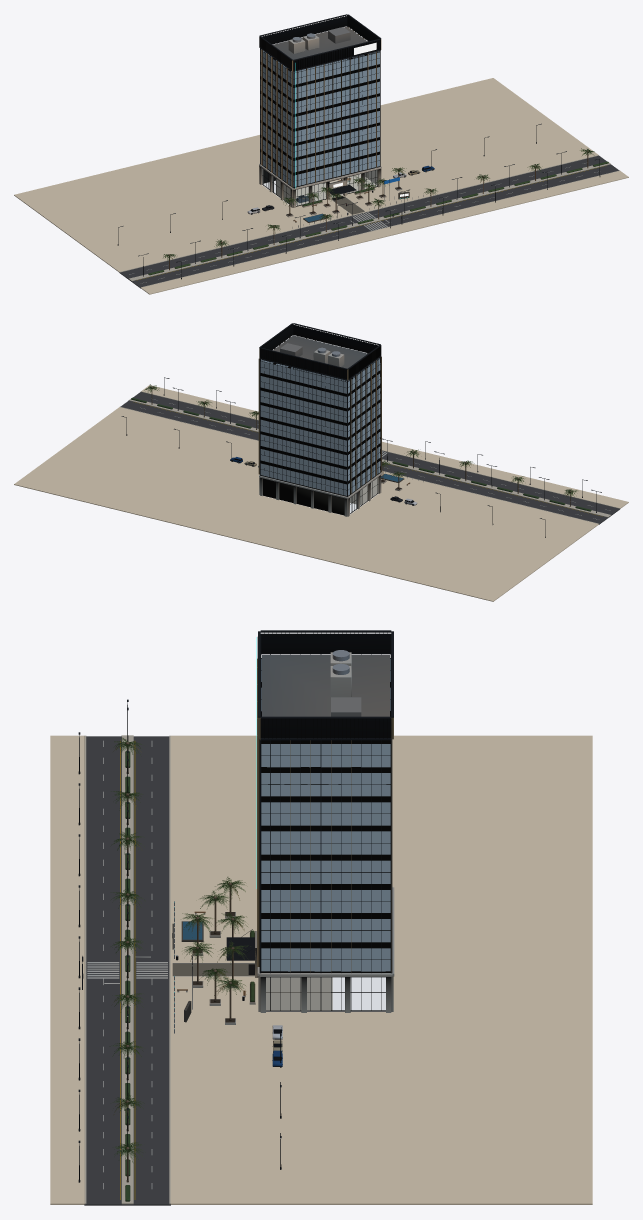
File: arrival.glb
3 views of the same model, one above another, from view 1: azimuth 30°, elevation 25°; view 2: azimuth 150°, elevation 25°; view 3: azimuth 270°, elevation 25° (orthographic). The views are drawn at different scales.
Visible parts, largest first — view 1: ground.paving, tower.glass_tower, ground.asphalt, tower.darkmetal, tower.fin, tower.spandrel, ground.kerb, tower.stone, tower.concrete, static.leaf, static.shrub, static.darkmetal (+4 smaller); view 2: ground.paving, tower.glass_tower, tower.darkmetal, ground.asphalt, tower.spandrel, tower.fin, tower.stone, ground.kerb, tower.concrete, static.shrub, static.darkmetal, static.leaf; view 3: ground.paving, ground.asphalt, tower.glass_tower, tower.spandrel, tower.darkmetal, tower.concrete, ground.kerb, static.leaf, tower.glass_clear, tower.fin, tower.stone, lobby_shell.stone_wall (+6 smaller).
Boxes of the visible parts, bbox=[...] form: ground.paving: bbox=[14, 78, 628, 294]; tower.glass_tower: bbox=[260, 49, 379, 186]; ground.asphalt: bbox=[119, 156, 619, 288]; tower.darkmetal: bbox=[259, 14, 381, 205]; tower.fin: bbox=[259, 15, 381, 187]; tower.spandrel: bbox=[260, 16, 380, 187]; ground.kerb: bbox=[119, 155, 619, 287]; tower.stone: bbox=[259, 35, 381, 207]; tower.concrete: bbox=[273, 26, 367, 59]; static.leaf: bbox=[163, 148, 594, 260]; static.shrub: bbox=[148, 161, 608, 275]; static.darkmetal: bbox=[117, 123, 600, 279]; ground.paving: bbox=[14, 385, 628, 601]; tower.glass_tower: bbox=[260, 358, 380, 495]; tower.darkmetal: bbox=[259, 323, 381, 511]; ground.asphalt: bbox=[120, 392, 619, 524]; tower.spandrel: bbox=[260, 324, 380, 496]; tower.fin: bbox=[258, 324, 381, 494]; tower.stone: bbox=[259, 349, 381, 516]; ground.kerb: bbox=[120, 391, 620, 523]; tower.concrete: bbox=[273, 335, 367, 368]; static.shrub: bbox=[131, 397, 591, 511]; static.darkmetal: bbox=[121, 377, 601, 537]; static.leaf: bbox=[144, 384, 577, 498]; ground.paving: bbox=[50, 735, 592, 1204]; ground.asphalt: bbox=[84, 736, 170, 1205]; tower.glass_tower: bbox=[261, 658, 390, 971]; tower.spandrel: bbox=[260, 633, 391, 972]; tower.darkmetal: bbox=[226, 630, 393, 1010]; tower.concrete: bbox=[262, 655, 389, 716]; ground.kerb: bbox=[84, 735, 170, 1204]; static.leaf: bbox=[109, 737, 250, 1162]; tower.glass_clear: bbox=[266, 978, 385, 1009]; tower.fin: bbox=[257, 633, 393, 972]; tower.stone: bbox=[255, 652, 394, 1012]; lobby_shell.stone_wall: bbox=[266, 977, 332, 1010].
Size of the model in its own units: 220 by 65.55 by 108.
